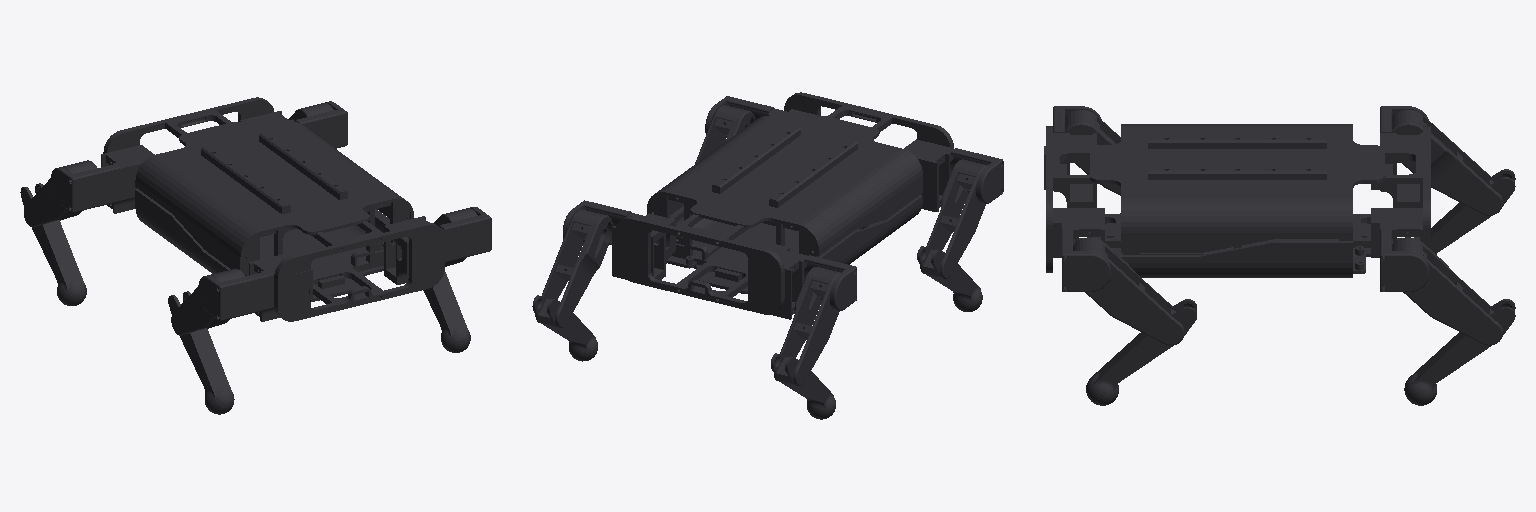
robot.urdf — spot_pico:
<?xml version="1.0"?>
<robot name="spot_pico">
  <mujoco>
    <compiler meshdir="../meshes" strippath="true" fusestatic="false" balanceinertia="true" discardvisual="false"/>
  </mujoco>
  <material name="dark"><color rgba="0.25 0.25 0.27 1"/></material>
  <link name="base_link">
    <inertial>
      <origin xyz="0.000337 -0.010367 0.000363" rpy="0 0 0"/>
      <mass value="0.336290"/>
      <inertia ixx="0.00110388" ixy="-0.00000733" ixz="0.00000218" iyy="0.00039453" iyz="0.00000280" izz="0.00138268"/>
    </inertial>
    <visual>
      <origin xyz="-0.000000 -0.000000 -0.000000" rpy="0 0 0"/>
      <geometry><mesh filename="../meshes/base_link.stl"/></geometry>
      <material name="dark"/>
    </visual>
    <collision>
      <origin xyz="-0.000000 -0.000000 -0.000000" rpy="0 0 0"/>
      <geometry><mesh filename="../meshes/base_link.stl"/></geometry>
    </collision>
  </link>
  <link name="fr_tibia">
    <inertial>
      <origin xyz="0.006000 -0.019087 -0.017870" rpy="0 0 0"/>
      <mass value="0.011568"/>
      <inertia ixx="0.00000545" ixy="0.00000000" ixz="0.00000000" iyy="0.00000284" iyz="-0.00000255" izz="0.00000293"/>
    </inertial>
    <visual>
      <origin xyz="0.089072 0.051597 0.037725" rpy="0 0 0"/>
      <geometry><mesh filename="../meshes/fr_tibia.stl"/></geometry>
      <material name="dark"/>
    </visual>
    <collision>
      <origin xyz="0.006000 -0.037123 -0.037123" rpy="0 0 0"/>
      <geometry><sphere radius="0.0090"/></geometry>
    </collision>
  </link>
  <link name="fr_femur">
    <inertial>
      <origin xyz="0.009160 0.013089 -0.011265" rpy="0 0 0"/>
      <mass value="0.010998"/>
      <inertia ixx="0.00000495" ixy="0.00000007" ixz="-0.00000007" iyy="0.00000281" iyz="0.00000207" izz="0.00000307"/>
    </inertial>
    <visual>
      <origin xyz="0.091222 0.095500 -0.000058" rpy="0 0 0"/>
      <geometry><mesh filename="../meshes/fr_femur.stl"/></geometry>
      <material name="dark"/>
    </visual>
    <collision>
      <origin xyz="0.091222 0.095500 -0.000058" rpy="0 0 0"/>
      <geometry><mesh filename="../meshes/fr_femur.stl"/></geometry>
    </collision>
  </link>
  <link name="fr_coxa">
    <inertial>
      <origin xyz="-0.018943 -0.001678 -0.002859" rpy="0 0 0"/>
      <mass value="0.043888"/>
      <inertia ixx="0.00000467" ixy="-0.00000017" ixz="0.00000051" iyy="0.00001059" iyz="0.00000025" izz="0.00000867"/>
    </inertial>
    <visual>
      <origin xyz="0.039922 0.099805 -0.000058" rpy="0 0 0"/>
      <geometry><mesh filename="../meshes/fr_coxa.stl"/></geometry>
      <material name="dark"/>
    </visual>
    <collision>
      <origin xyz="0.039922 0.099805 -0.000058" rpy="0 0 0"/>
      <geometry><mesh filename="../meshes/fr_coxa.stl"/></geometry>
    </collision>
  </link>
  <link name="fl_tibia">
    <inertial>
      <origin xyz="0.006000 -0.019087 -0.017870" rpy="0 0 0"/>
      <mass value="0.011568"/>
      <inertia ixx="0.00000545" ixy="-0.00000000" ixz="-0.00000000" iyy="0.00000284" iyz="-0.00000255" izz="0.00000293"/>
    </inertial>
    <visual>
      <origin xyz="-0.077378 0.046947 0.037725" rpy="0 0 0"/>
      <geometry><mesh filename="../meshes/fl_tibia.stl"/></geometry>
      <material name="dark"/>
    </visual>
    <collision>
      <origin xyz="0.006000 -0.037123 -0.037123" rpy="0 0 0"/>
      <geometry><sphere radius="0.0090"/></geometry>
    </collision>
  </link>
  <link name="fl_femur">
    <inertial>
      <origin xyz="-0.009160 0.013089 -0.011265" rpy="0 0 0"/>
      <mass value="0.010998"/>
      <inertia ixx="0.00000495" ixy="-0.00000007" ixz="0.00000007" iyy="0.00000281" iyz="0.00000207" izz="0.00000307"/>
    </inertial>
    <visual>
      <origin xyz="-0.091678 0.090850 -0.000058" rpy="0 0 0"/>
      <geometry><mesh filename="../meshes/fl_femur.stl"/></geometry>
      <material name="dark"/>
    </visual>
    <collision>
      <origin xyz="-0.091678 0.090850 -0.000058" rpy="0 0 0"/>
      <geometry><mesh filename="../meshes/fl_femur.stl"/></geometry>
    </collision>
  </link>
  <link name="fl_coxa">
    <inertial>
      <origin xyz="0.018498 -0.002190 -0.002737" rpy="0 0 0"/>
      <mass value="0.044625"/>
      <inertia ixx="0.00000480" ixy="0.00000008" ixz="-0.00000049" iyy="0.00001070" iyz="0.00000027" izz="0.00000886"/>
    </inertial>
    <visual>
      <origin xyz="-0.040078 0.095155 -0.000058" rpy="0 0 0"/>
      <geometry><mesh filename="../meshes/fl_coxa.stl"/></geometry>
      <material name="dark"/>
    </visual>
    <collision>
      <origin xyz="-0.040078 0.095155 -0.000058" rpy="0 0 0"/>
      <geometry><mesh filename="../meshes/fl_coxa.stl"/></geometry>
    </collision>
  </link>
  <link name="rr_tibia">
    <inertial>
      <origin xyz="0.006000 -0.019087 -0.017870" rpy="0 0 0"/>
      <mass value="0.011568"/>
      <inertia ixx="0.00000545" ixy="0.00000000" ixz="0.00000000" iyy="0.00000284" iyz="-0.00000255" izz="0.00000293"/>
    </inertial>
    <visual>
      <origin xyz="0.089072 -0.125753 0.037725" rpy="0 0 0"/>
      <geometry><mesh filename="../meshes/rr_tibia.stl"/></geometry>
      <material name="dark"/>
    </visual>
    <collision>
      <origin xyz="0.006000 -0.037123 -0.037123" rpy="0 0 0"/>
      <geometry><sphere radius="0.0090"/></geometry>
    </collision>
  </link>
  <link name="rr_femur">
    <inertial>
      <origin xyz="0.009160 0.013089 -0.011265" rpy="0 0 0"/>
      <mass value="0.010998"/>
      <inertia ixx="0.00000495" ixy="0.00000007" ixz="-0.00000007" iyy="0.00000281" iyz="0.00000207" izz="0.00000307"/>
    </inertial>
    <visual>
      <origin xyz="0.091222 -0.081850 -0.000058" rpy="0 0 0"/>
      <geometry><mesh filename="../meshes/rr_femur.stl"/></geometry>
      <material name="dark"/>
    </visual>
    <collision>
      <origin xyz="0.091222 -0.081850 -0.000058" rpy="0 0 0"/>
      <geometry><mesh filename="../meshes/rr_femur.stl"/></geometry>
    </collision>
  </link>
  <link name="rr_coxa">
    <inertial>
      <origin xyz="-0.018943 -0.001678 -0.002859" rpy="0 0 0"/>
      <mass value="0.043888"/>
      <inertia ixx="0.00000467" ixy="-0.00000017" ixz="0.00000051" iyy="0.00001059" iyz="0.00000025" izz="0.00000867"/>
    </inertial>
    <visual>
      <origin xyz="0.039922 -0.077545 -0.000058" rpy="0 0 0"/>
      <geometry><mesh filename="../meshes/rr_coxa.stl"/></geometry>
      <material name="dark"/>
    </visual>
    <collision>
      <origin xyz="0.039922 -0.077545 -0.000058" rpy="0 0 0"/>
      <geometry><mesh filename="../meshes/rr_coxa.stl"/></geometry>
    </collision>
  </link>
  <link name="rl_tibia">
    <inertial>
      <origin xyz="0.006000 -0.019087 -0.017870" rpy="0 0 0"/>
      <mass value="0.011568"/>
      <inertia ixx="0.00000545" ixy="-0.00000000" ixz="-0.00000000" iyy="0.00000284" iyz="-0.00000255" izz="0.00000293"/>
    </inertial>
    <visual>
      <origin xyz="-0.077378 -0.125753 0.037725" rpy="0 0 0"/>
      <geometry><mesh filename="../meshes/rl_tibia.stl"/></geometry>
      <material name="dark"/>
    </visual>
    <collision>
      <origin xyz="0.006000 -0.037123 -0.037123" rpy="0 0 0"/>
      <geometry><sphere radius="0.0090"/></geometry>
    </collision>
  </link>
  <link name="rl_femur">
    <inertial>
      <origin xyz="-0.009160 0.013089 -0.011265" rpy="0 0 0"/>
      <mass value="0.010998"/>
      <inertia ixx="0.00000495" ixy="-0.00000007" ixz="0.00000007" iyy="0.00000281" iyz="0.00000207" izz="0.00000307"/>
    </inertial>
    <visual>
      <origin xyz="-0.091678 -0.081850 -0.000058" rpy="0 0 0"/>
      <geometry><mesh filename="../meshes/rl_femur.stl"/></geometry>
      <material name="dark"/>
    </visual>
    <collision>
      <origin xyz="-0.091678 -0.081850 -0.000058" rpy="0 0 0"/>
      <geometry><mesh filename="../meshes/rl_femur.stl"/></geometry>
    </collision>
  </link>
  <link name="rl_coxa">
    <inertial>
      <origin xyz="0.018498 -0.002190 -0.002737" rpy="0 0 0"/>
      <mass value="0.044625"/>
      <inertia ixx="0.00000480" ixy="0.00000008" ixz="-0.00000049" iyy="0.00001070" iyz="0.00000027" izz="0.00000886"/>
    </inertial>
    <visual>
      <origin xyz="-0.040078 -0.077545 -0.000058" rpy="0 0 0"/>
      <geometry><mesh filename="../meshes/rl_coxa.stl"/></geometry>
      <material name="dark"/>
    </visual>
    <collision>
      <origin xyz="-0.040078 -0.077545 -0.000058" rpy="0 0 0"/>
      <geometry><mesh filename="../meshes/rl_coxa.stl"/></geometry>
    </collision>
  </link>
  <joint name="fr_hip_joint" type="revolute">
    <origin xyz="-0.039922 -0.099805 0.000058" rpy="0 0 0"/>
    <parent link="base_link"/>
    <child link="fr_coxa"/>
    <axis xyz="0.0000 -1.0000 0.0000"/>
    <limit lower="-1.48353" upper="1.48353" effort="0.34" velocity="13.0"/>
    <dynamics damping="0.01" friction="0.02"/>
  </joint>
  <joint name="fr_tibia_joint" type="revolute">
    <origin xyz="0.002150 0.043903 -0.037783" rpy="0 0 0"/>
    <parent link="fr_femur"/>
    <child link="fr_tibia"/>
    <axis xyz="-1.0000 -0.0000 0.0000"/>
    <limit lower="-1.04720" upper="0.95993" effort="0.21" velocity="21.0"/>
    <dynamics damping="0.01" friction="0.02"/>
  </joint>
  <joint name="fr_femur_joint" type="revolute">
    <origin xyz="-0.051300 0.004305 -0.000000" rpy="0 0 0"/>
    <parent link="fr_coxa"/>
    <child link="fr_femur"/>
    <axis xyz="-1.0000 -0.0000 0.0000"/>
    <limit lower="-2.35619" upper="0.78540" effort="0.34" velocity="13.0"/>
    <dynamics damping="0.01" friction="0.02"/>
  </joint>
  <joint name="fl_hip_joint" type="revolute">
    <origin xyz="0.040078 -0.095155 0.000058" rpy="0 0 0"/>
    <parent link="base_link"/>
    <child link="fl_coxa"/>
    <axis xyz="0.0000 1.0000 0.0000"/>
    <limit lower="-1.48353" upper="1.48353" effort="0.34" velocity="13.0"/>
    <dynamics damping="0.01" friction="0.02"/>
  </joint>
  <joint name="fl_tibia_joint" type="revolute">
    <origin xyz="-0.014300 0.043903 -0.037783" rpy="0 0 0"/>
    <parent link="fl_femur"/>
    <child link="fl_tibia"/>
    <axis xyz="1.0000 0.0000 -0.0000"/>
    <limit lower="-0.95993" upper="0.78540" effort="0.21" velocity="21.0"/>
    <dynamics damping="0.01" friction="0.02"/>
  </joint>
  <joint name="fl_femur_joint" type="revolute">
    <origin xyz="0.051600 0.004305 -0.000000" rpy="0 0 0"/>
    <parent link="fl_coxa"/>
    <child link="fl_femur"/>
    <axis xyz="-1.0000 -0.0000 0.0000"/>
    <limit lower="-1.57080" upper="1.57080" effort="0.34" velocity="13.0"/>
    <dynamics damping="0.01" friction="0.02"/>
  </joint>
  <joint name="rr_hip_joint" type="revolute">
    <origin xyz="-0.039922 0.077545 0.000058" rpy="0 0 0"/>
    <parent link="base_link"/>
    <child link="rr_coxa"/>
    <axis xyz="0.0000 -1.0000 0.0000"/>
    <limit lower="-1.48353" upper="1.48353" effort="0.34" velocity="13.0"/>
    <dynamics damping="0.01" friction="0.02"/>
  </joint>
  <joint name="rr_tibia_joint" type="revolute">
    <origin xyz="0.002150 0.043903 -0.037783" rpy="0 0 0"/>
    <parent link="rr_femur"/>
    <child link="rr_tibia"/>
    <axis xyz="-1.0000 -0.0000 0.0000"/>
    <limit lower="-1.04720" upper="0.95993" effort="0.21" velocity="21.0"/>
    <dynamics damping="0.01" friction="0.02"/>
  </joint>
  <joint name="rr_femur_joint" type="revolute">
    <origin xyz="-0.051300 0.004305 0.000000" rpy="0 0 0"/>
    <parent link="rr_coxa"/>
    <child link="rr_femur"/>
    <axis xyz="-1.0000 -0.0000 -0.0000"/>
    <limit lower="-2.35619" upper="0.78540" effort="0.34" velocity="13.0"/>
    <dynamics damping="0.01" friction="0.02"/>
  </joint>
  <joint name="rl_hip_joint" type="revolute">
    <origin xyz="0.040078 0.077545 0.000058" rpy="0 0 0"/>
    <parent link="base_link"/>
    <child link="rl_coxa"/>
    <axis xyz="0.0000 1.0000 0.0000"/>
    <limit lower="-1.48353" upper="1.48353" effort="0.34" velocity="13.0"/>
    <dynamics damping="0.01" friction="0.02"/>
  </joint>
  <joint name="rl_tibia_joint" type="revolute">
    <origin xyz="-0.014300 0.043903 -0.037783" rpy="0 0 0"/>
    <parent link="rl_femur"/>
    <child link="rl_tibia"/>
    <axis xyz="1.0000 0.0000 0.0000"/>
    <limit lower="-0.95993" upper="0.78540" effort="0.21" velocity="21.0"/>
    <dynamics damping="0.01" friction="0.02"/>
  </joint>
  <joint name="rl_femur_joint" type="revolute">
    <origin xyz="0.051600 0.004305 0.000000" rpy="0 0 0"/>
    <parent link="rl_coxa"/>
    <child link="rl_femur"/>
    <axis xyz="-1.0000 0.0000 -0.0000"/>
    <limit lower="-1.57080" upper="1.57080" effort="0.34" velocity="13.0"/>
    <dynamics damping="0.01" friction="0.02"/>
  </joint>
</robot>

--- Render facts (derived) ---
3 views of the same robot in one strip: view 1: azimuth 30°, elevation 25°; view 2: azimuth 150°, elevation 25°; view 3: azimuth 270°, elevation 25° (orthographic).
Model spot_pico with 13 links and 12 joints (12 revolute), rooted at base_link, posed every joint at zero.
Links seen in each view (by area): view 1: base_link, rr_coxa, fr_coxa, fl_coxa, fr_tibia, rr_tibia, fl_tibia, rl_coxa, fr_femur, rr_femur; view 2: base_link, rl_femur, rr_femur, fr_femur, fr_coxa, rr_coxa, rl_coxa, fr_tibia, rl_tibia, rr_tibia, fl_femur, fl_coxa; view 3: base_link, fl_femur, rl_femur, rr_femur, rl_coxa, fl_coxa, fl_tibia, rl_tibia, fr_coxa, rr_coxa, rr_tibia, fr_femur.
Link boxes in pixels (<box>): base_link: <box>103,97,444,321</box>; rr_coxa: <box>51,145,154,213</box>; fr_coxa: <box>198,253,312,321</box>; fl_coxa: <box>384,207,491,284</box>; fr_tibia: <box>168,291,234,414</box>; rr_tibia: <box>20,183,86,305</box>; fl_tibia: <box>423,272,470,352</box>; rl_coxa: <box>240,101,347,148</box>; fr_femur: <box>171,269,244,335</box>; rr_femur: <box>24,160,96,227</box>; base_link: <box>615,92,953,314</box>; rl_femur: <box>535,209,612,327</box>; rr_femur: <box>774,267,840,385</box>; fr_femur: <box>920,159,987,278</box>; fr_coxa: <box>904,139,1003,211</box>; rr_coxa: <box>767,244,856,319</box>; rl_coxa: <box>563,200,675,279</box>; fr_tibia: <box>917,246,982,311</box>; rl_tibia: <box>532,295,597,361</box>; rr_tibia: <box>771,353,835,419</box>; fl_femur: <box>695,105,754,163</box>; fl_coxa: <box>705,96,817,133</box>; base_link: <box>1046,124,1430,277</box>; fl_femur: <box>1073,237,1184,345</box>; rl_femur: <box>1392,237,1502,345</box>; rr_femur: <box>1392,110,1502,215</box>; rl_coxa: <box>1371,208,1429,291</box>; fl_coxa: <box>1053,208,1110,291</box>; fl_tibia: <box>1086,299,1196,405</box>; rl_tibia: <box>1404,299,1515,405</box>; fr_coxa: <box>1044,106,1101,207</box>; rr_coxa: <box>1371,106,1428,207</box>; rr_tibia: <box>1431,169,1515,254</box>; fr_femur: <box>1065,110,1120,195</box>.
Bounding box of the posed robot: 0.1912 × 0.2555 × 0.1108 m (x, y, z).
Meshes: 13 distinct files referenced, 13 mesh visuals loaded (13 binary STL).
